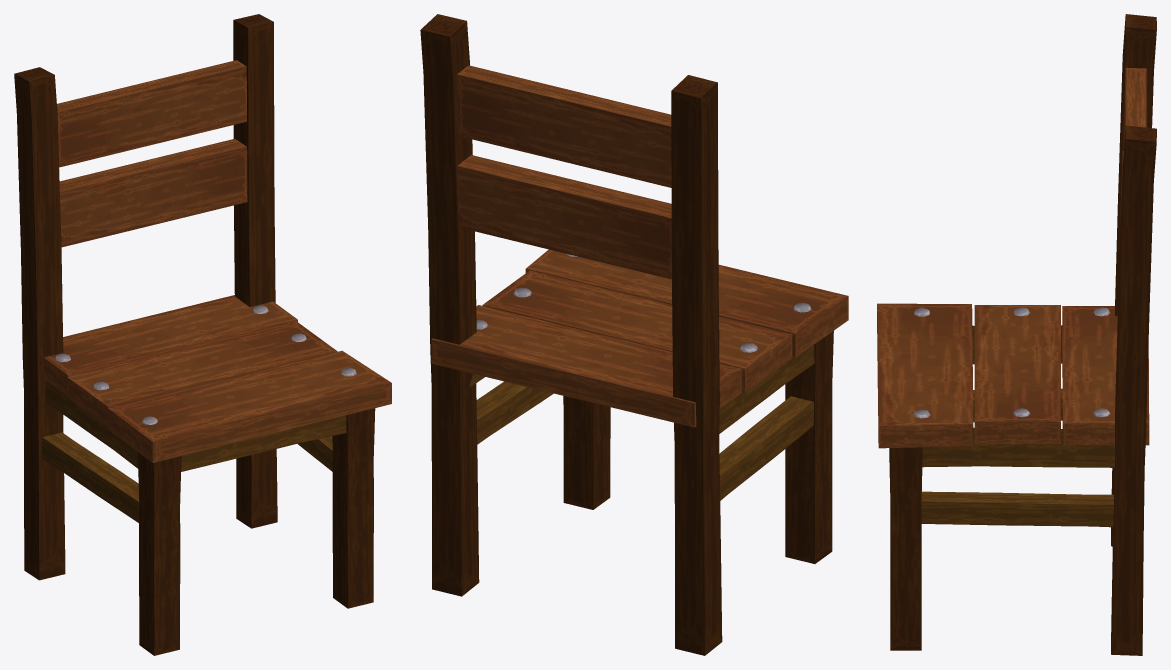
Rendered from Chair 1.glb.
The picture shows the model from 3 angles, left to right: view 1: azimuth 30°, elevation 25°; view 2: azimuth 150°, elevation 25°; view 3: azimuth 270°, elevation 25°; orthographic projection. The views are drawn at different scales.
Parts seen in each view (by area): view 1: Chair_1; view 2: Chair_1; view 3: Chair_1.
Boxes of the visible parts, bbox=[...] form: Chair_1: bbox=[14, 14, 391, 655]; Chair_1: bbox=[420, 14, 848, 655]; Chair_1: bbox=[877, 14, 1156, 655].
Bounding box in the file's own units: 0.5805 × 1.12 × 0.5489.
Materials: 2 (2 with a texture image).
